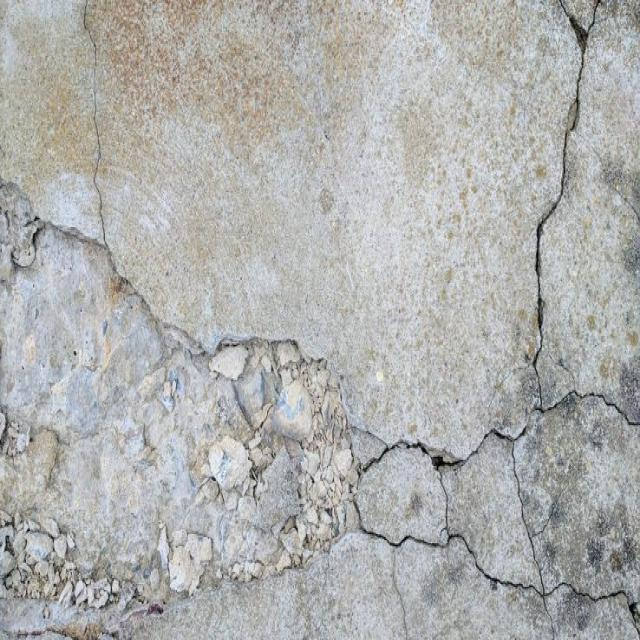crack: (536, 0, 587, 330), (589, 0, 599, 28)
spalling: (0, 180, 357, 619)
